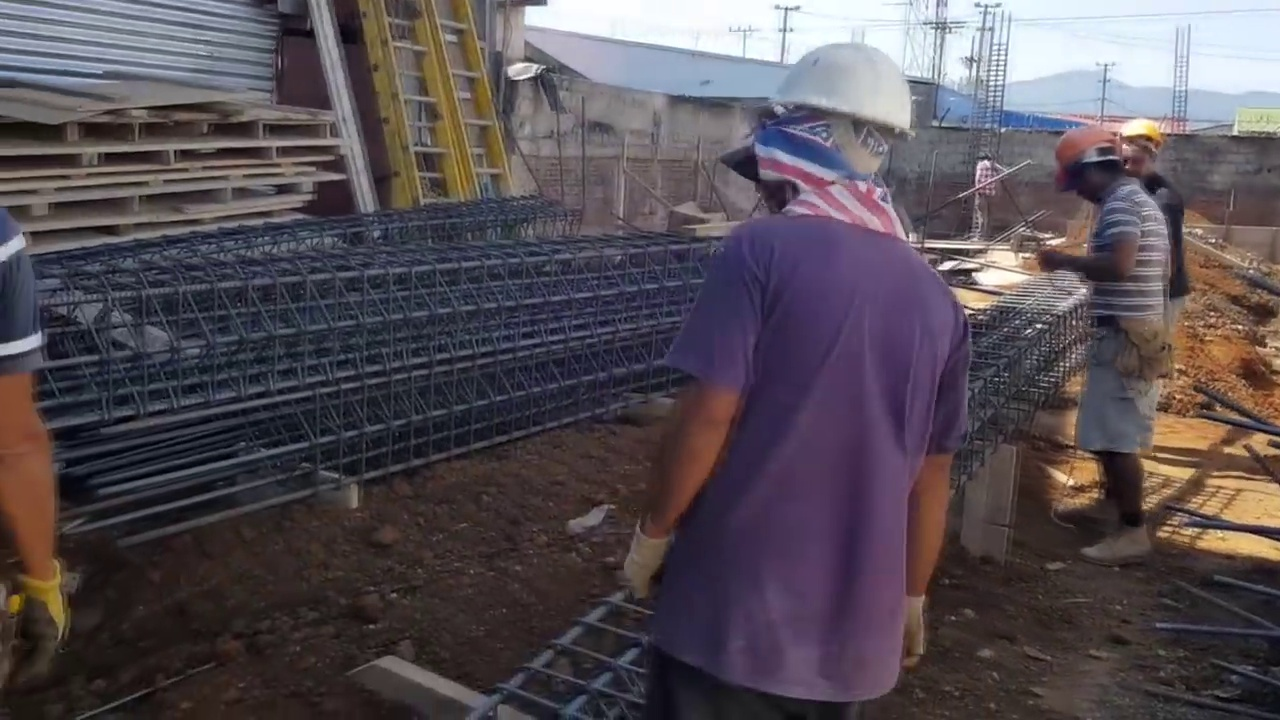helmet: (762, 41, 913, 147), (1055, 124, 1123, 193), (1114, 119, 1169, 156)
helmet-off: (973, 149, 993, 168)
helmet-on: (723, 41, 916, 227), (1055, 127, 1136, 209), (1115, 120, 1169, 180)
person: (619, 40, 962, 713), (1038, 121, 1172, 565), (1116, 113, 1193, 334), (973, 147, 1005, 244)
